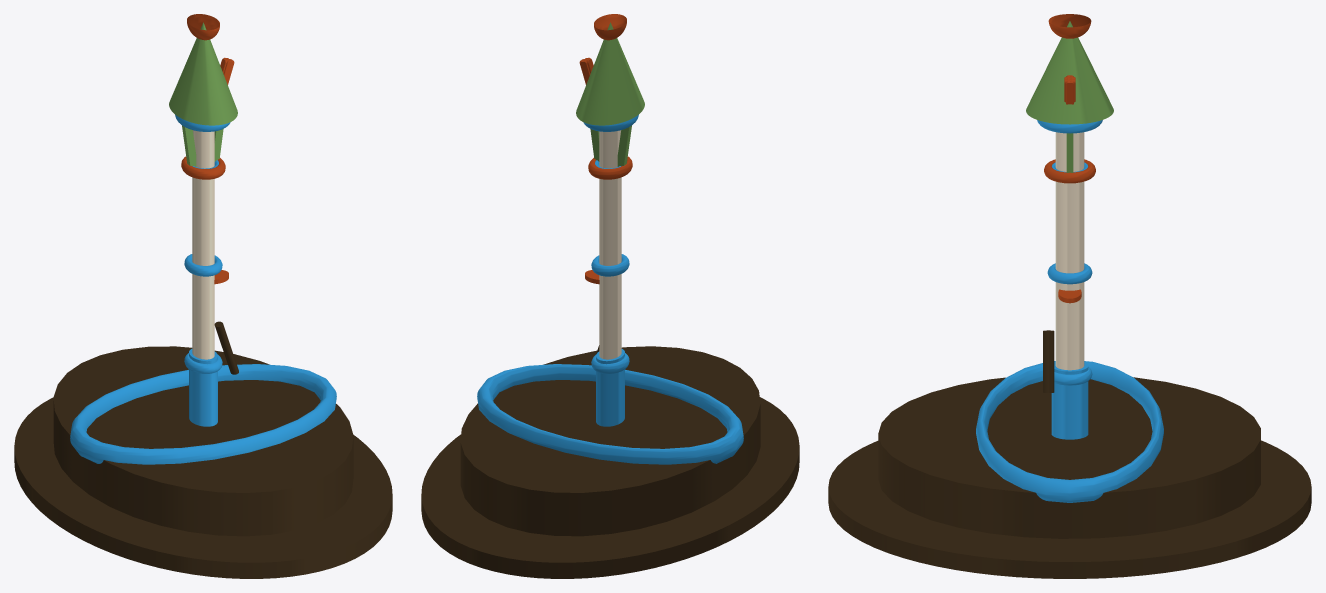
The model's file is 0733_先秦图鉴_亚醜钺.glb.
The picture shows the model from 3 angles, left to right: view 1: azimuth 30°, elevation 25°; view 2: azimuth 150°, elevation 25°; view 3: azimuth 270°, elevation 25°; orthographic projection. The views are drawn at different scales.
Parts seen in each view (by area): view 1: card_0733; view 2: card_0733; view 3: card_0733.
Part boxes in pixels (x1,y1,x2,y2): card_0733: [14, 14, 392, 578]; card_0733: [421, 14, 799, 578]; card_0733: [828, 14, 1311, 578].
Size of the model in its own units: 0.6716 by 1 by 0.9069.
